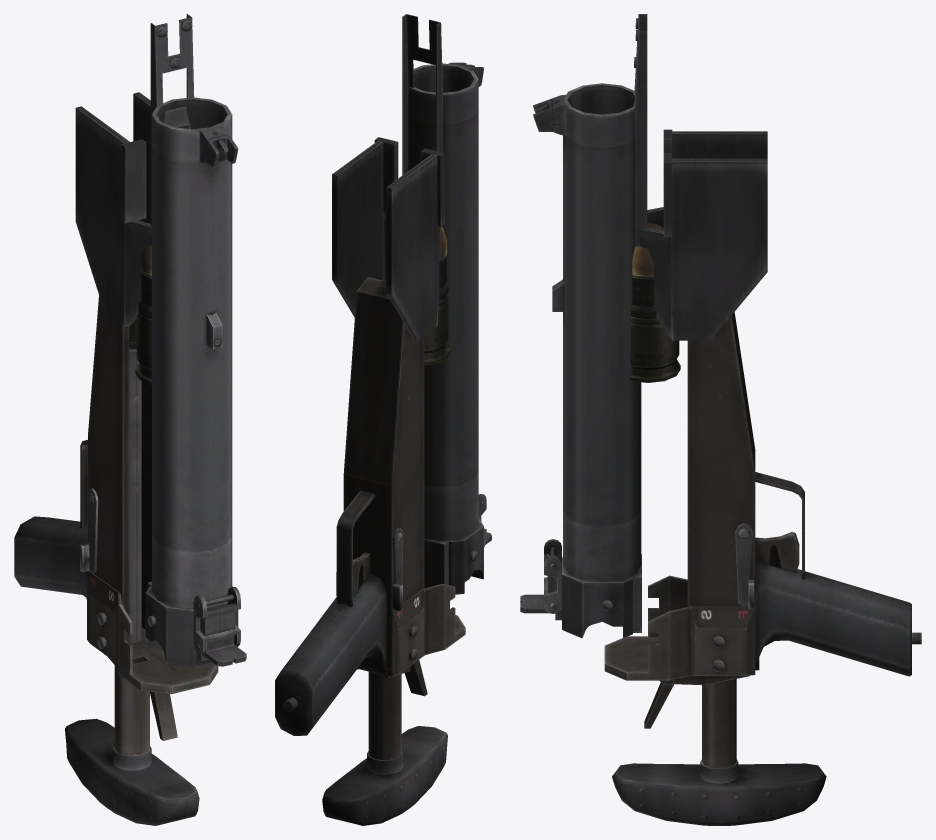
3 renders of one model, left to right at view 1: azimuth 30°, elevation 25°; view 2: azimuth 150°, elevation 25°; view 3: azimuth 270°, elevation 25°, orthographic. The views are drawn at different scales.
Parts seen in each view (by area): view 1: Model_Gunbarrel, Model_HK69, Model_Handle, Model_Sight, Model_Grenade; view 2: Model_HK69, Model_Gunbarrel, Model_Handle, Model_Sight, Model_Grenade; view 3: Model_HK69, Model_Gunbarrel, Model_Handle, Model_Grenade, Model_Sight.
Part boxes in pixels (bbox=[...]): Model_Gunbarrel: bbox=[145, 97, 246, 667]; Model_HK69: bbox=[14, 295, 218, 825]; Model_Handle: bbox=[75, 92, 151, 326]; Model_Sight: bbox=[150, 14, 194, 226]; Model_Grenade: bbox=[135, 244, 151, 384]; Model_HK69: bbox=[275, 277, 465, 825]; Model_Gunbarrel: bbox=[408, 62, 491, 594]; Model_Handle: bbox=[332, 137, 444, 339]; Model_Sight: bbox=[402, 14, 442, 227]; Model_Grenade: bbox=[424, 227, 450, 365]; Model_HK69: bbox=[604, 312, 921, 825]; Model_Gunbarrel: bbox=[520, 83, 641, 638]; Model_Handle: bbox=[639, 129, 767, 340]; Model_Grenade: bbox=[629, 223, 680, 382]; Model_Sight: bbox=[634, 14, 647, 247].
Size of the model in its own units: 0.0538 by 0.5328 by 0.2451.
2 materials, 2 textured.
